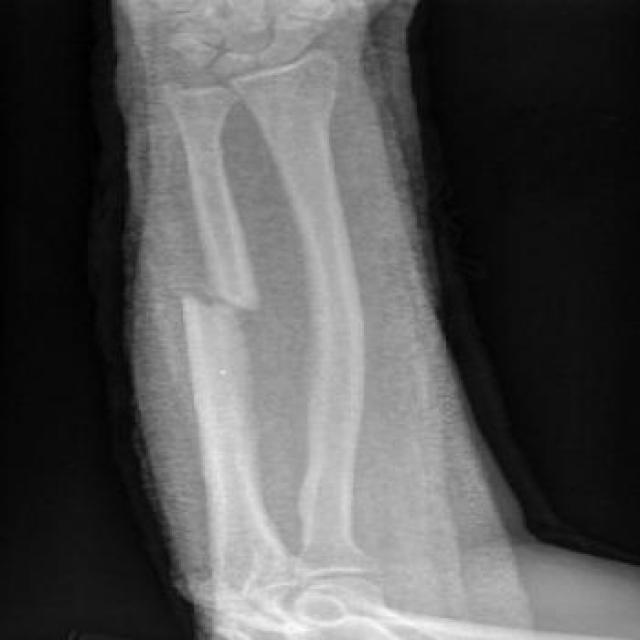Fracture: (179, 278, 270, 324)
